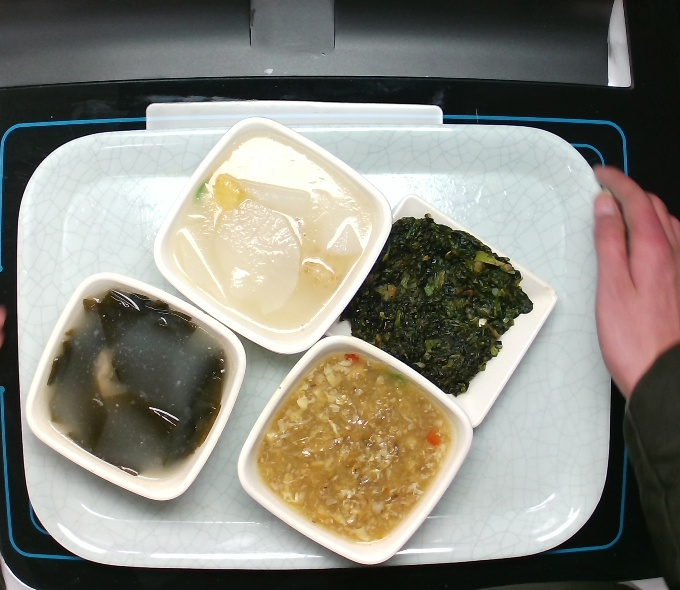wcq-HaiDaiPaiGuTang: (46, 291, 235, 483)
wcq-LuoBoYouPaoTang: (171, 132, 376, 338)
wcq-QinCaiBing: (339, 215, 538, 399)
wcq-SuanLaGeng: (255, 351, 454, 544)
